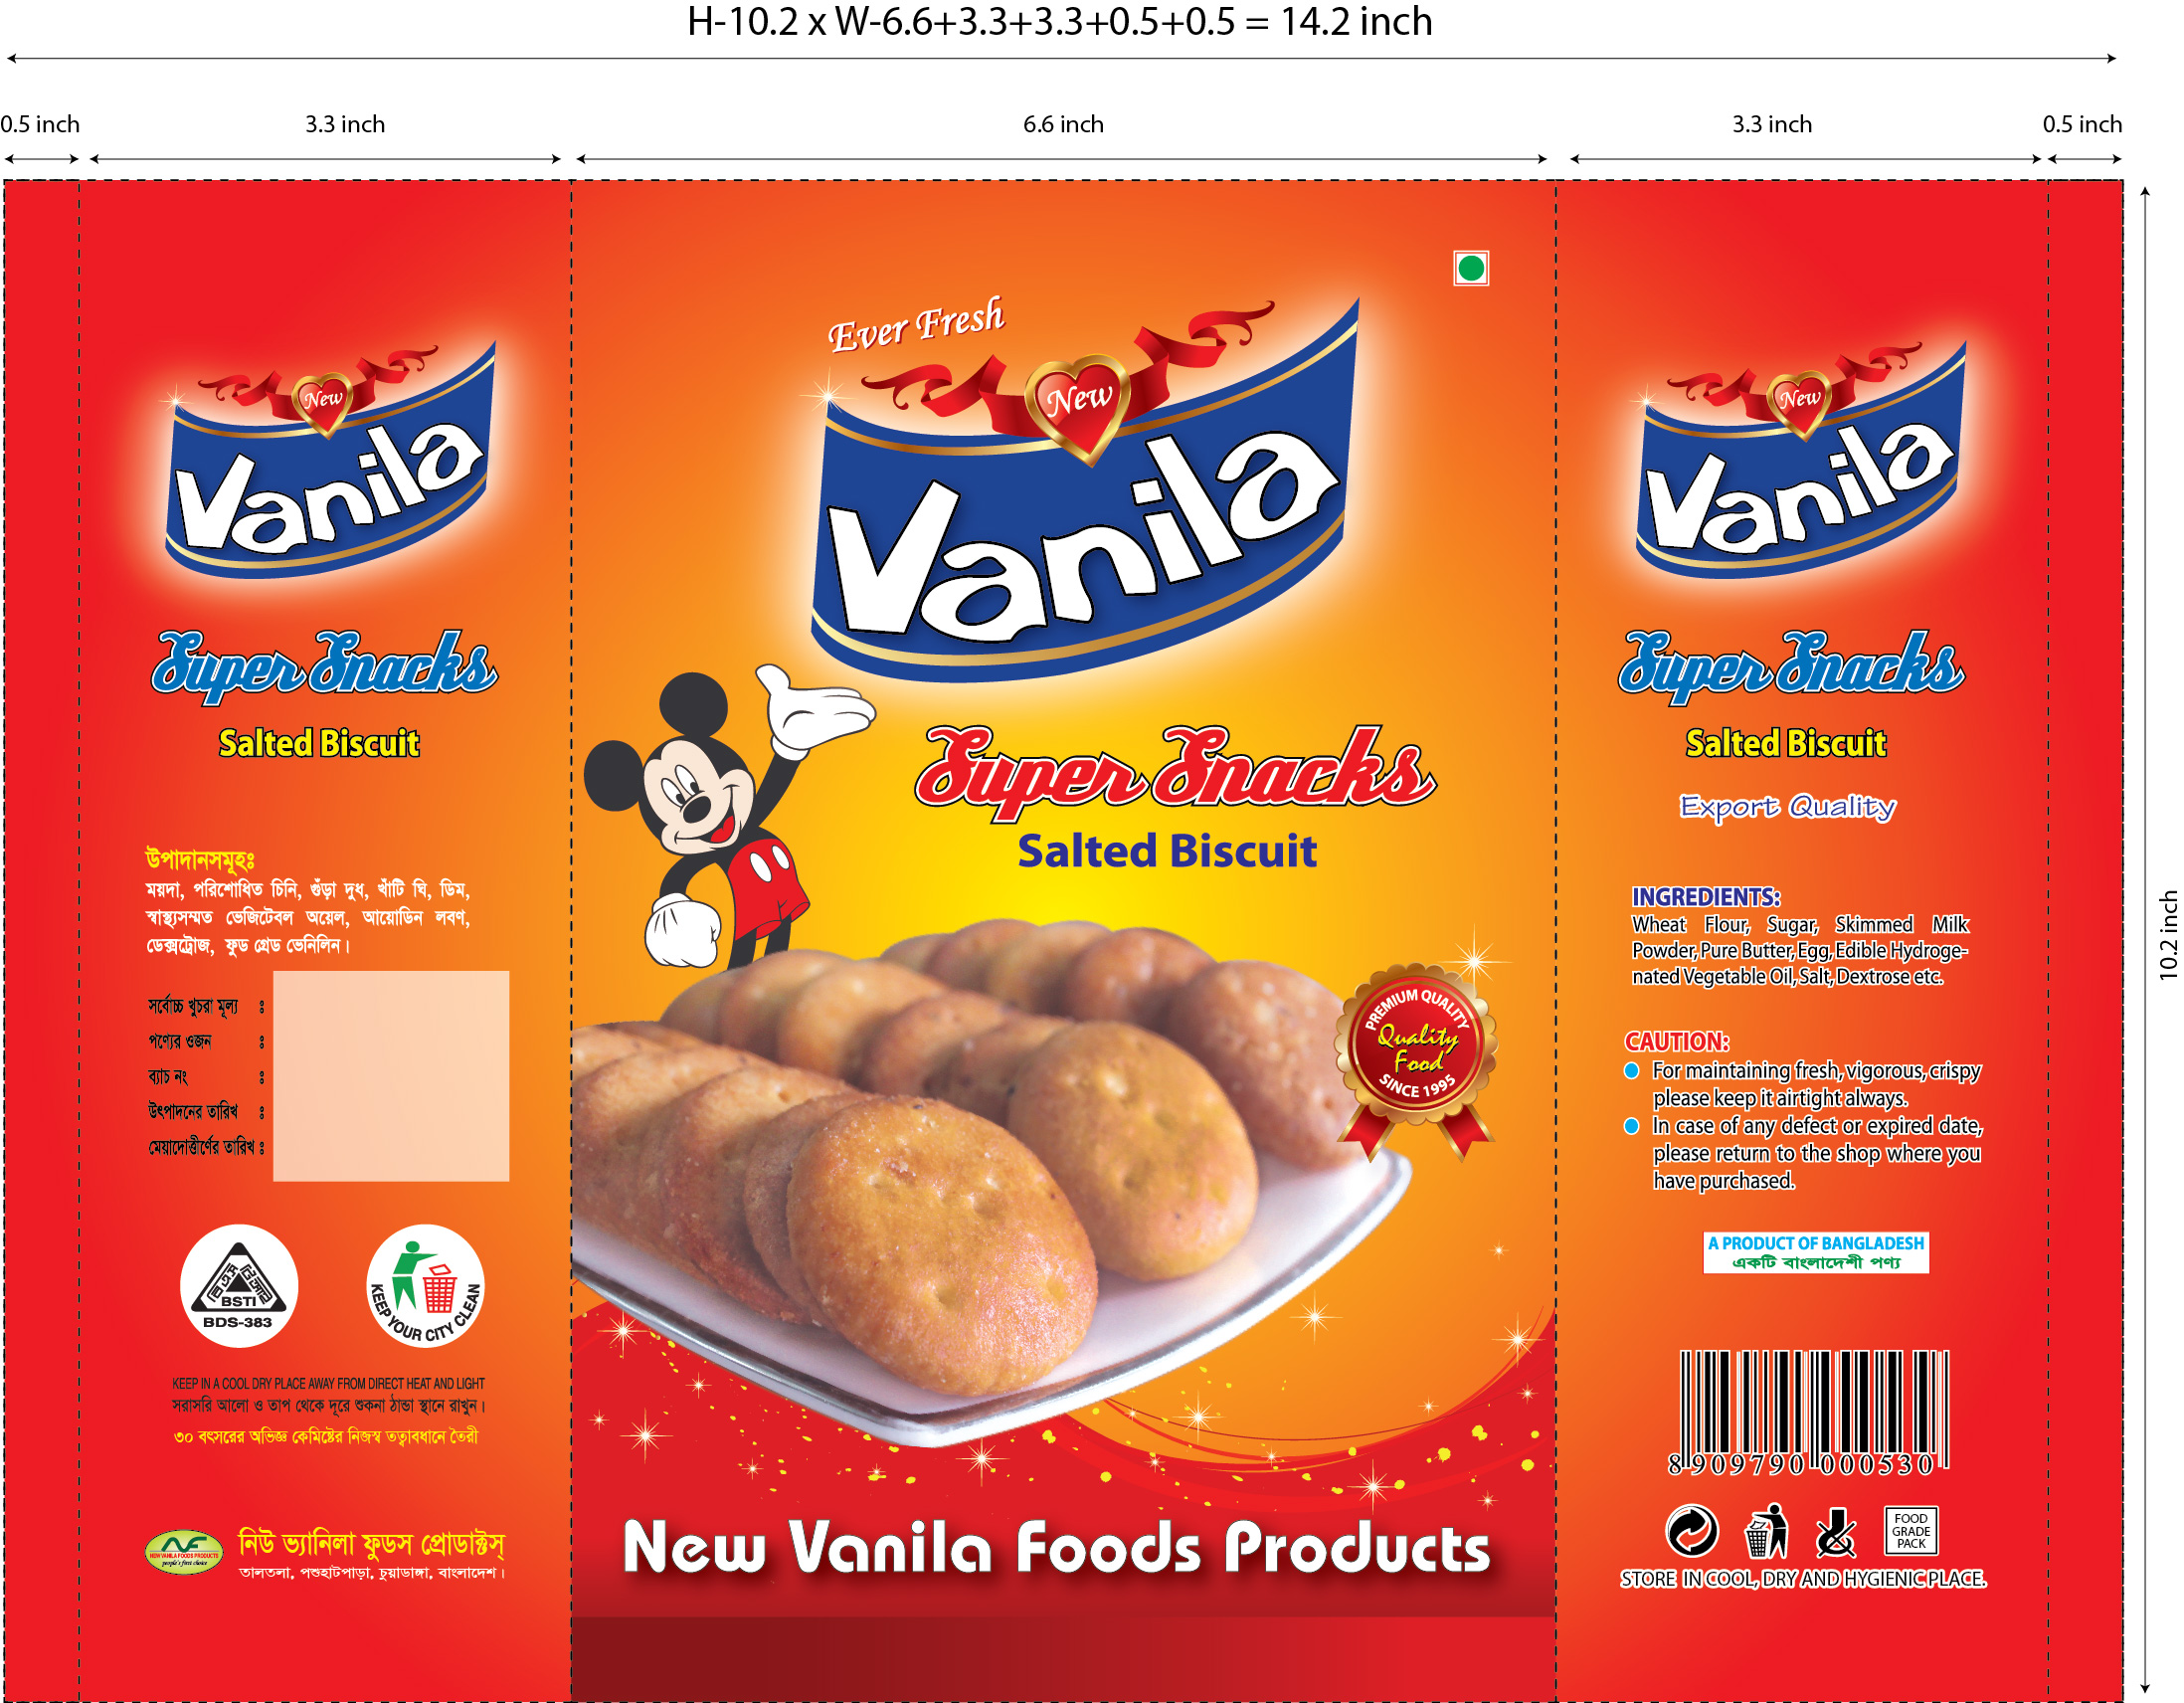VEG: (1452, 247, 1494, 293)
